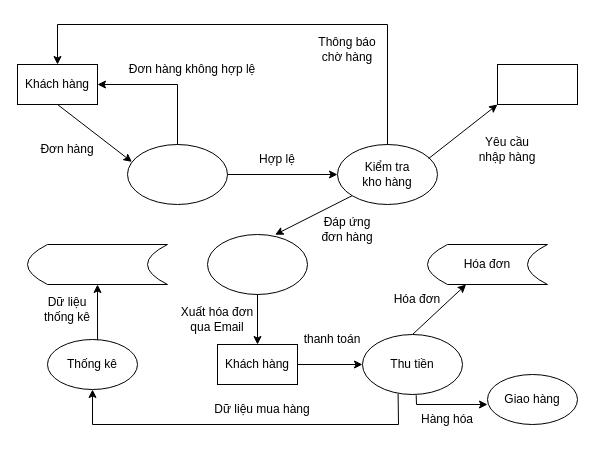
Image size: 595x452. Some labels were removed from this diagram. The centre of each missing label's shape, as x and y in pixels:
Kiểm tra đơn hàng: (x=177, y=174)
Lập hóa đơn: (x=257, y=264)
Quản lý nhập hàng: (x=537, y=84)
Top sản phẩm,khách hàng, nhân viên: (x=97, y=264)
